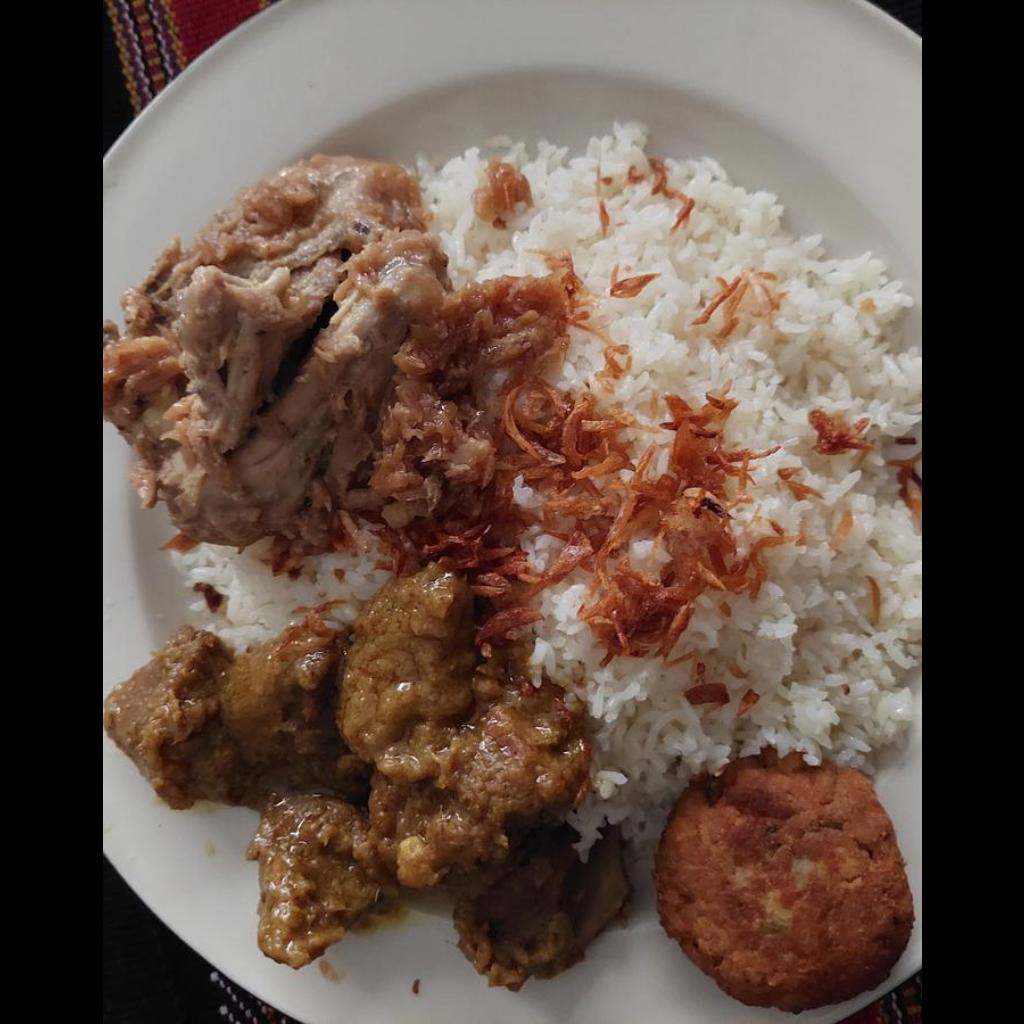beef: (102, 565, 625, 988)
chicken: (102, 159, 449, 559)
chop-alu: (654, 753, 912, 1013)
rice: (164, 117, 919, 875)
